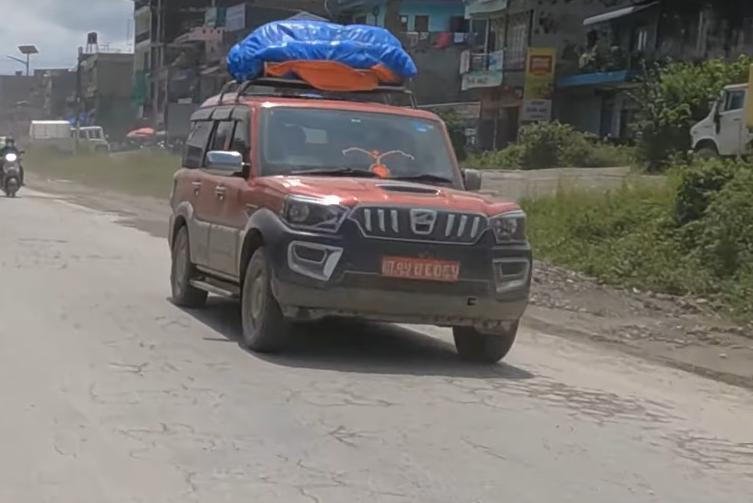SUV: (165, 59, 536, 376)
mini_truck: (688, 62, 753, 170)
scooter: (0, 147, 28, 199)
